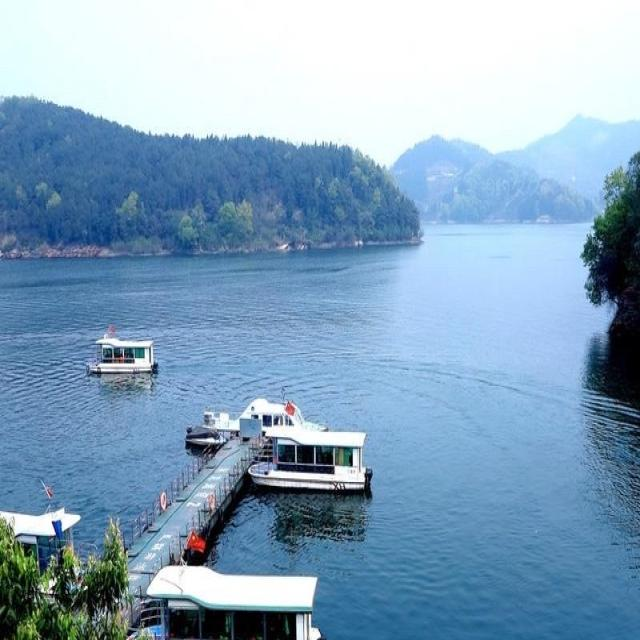houseboat: (261, 420, 370, 492), (81, 327, 153, 383)
